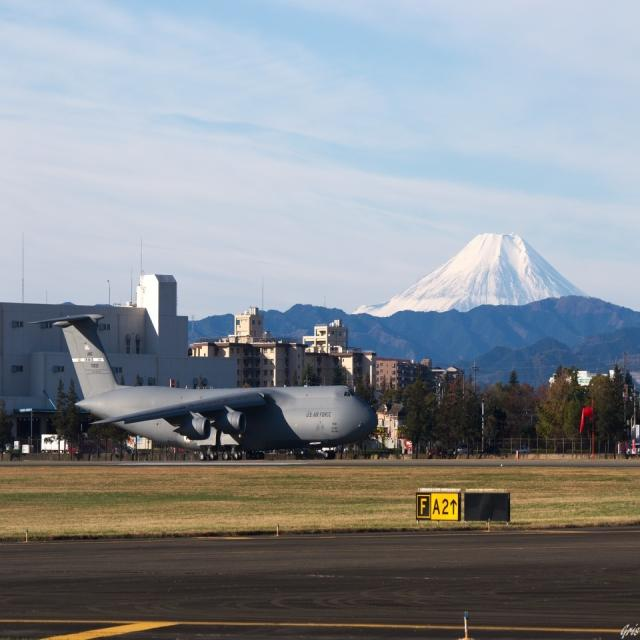MIL_Plane: (26, 312, 378, 461)
